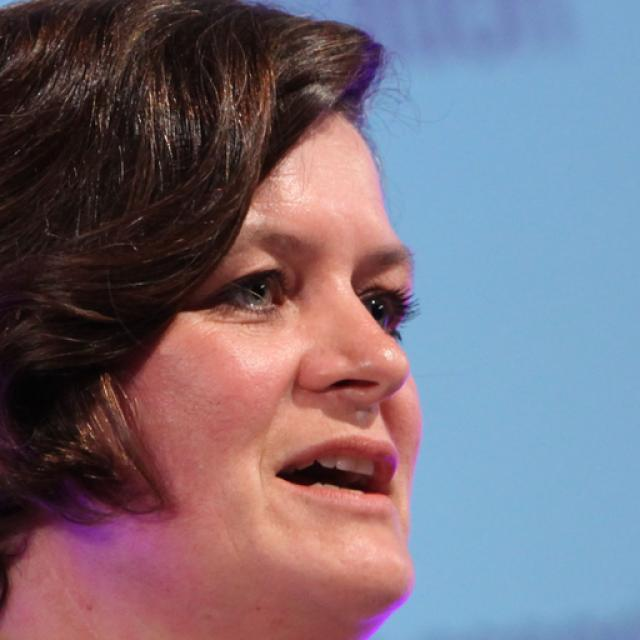disgust: (80, 106, 424, 630)
